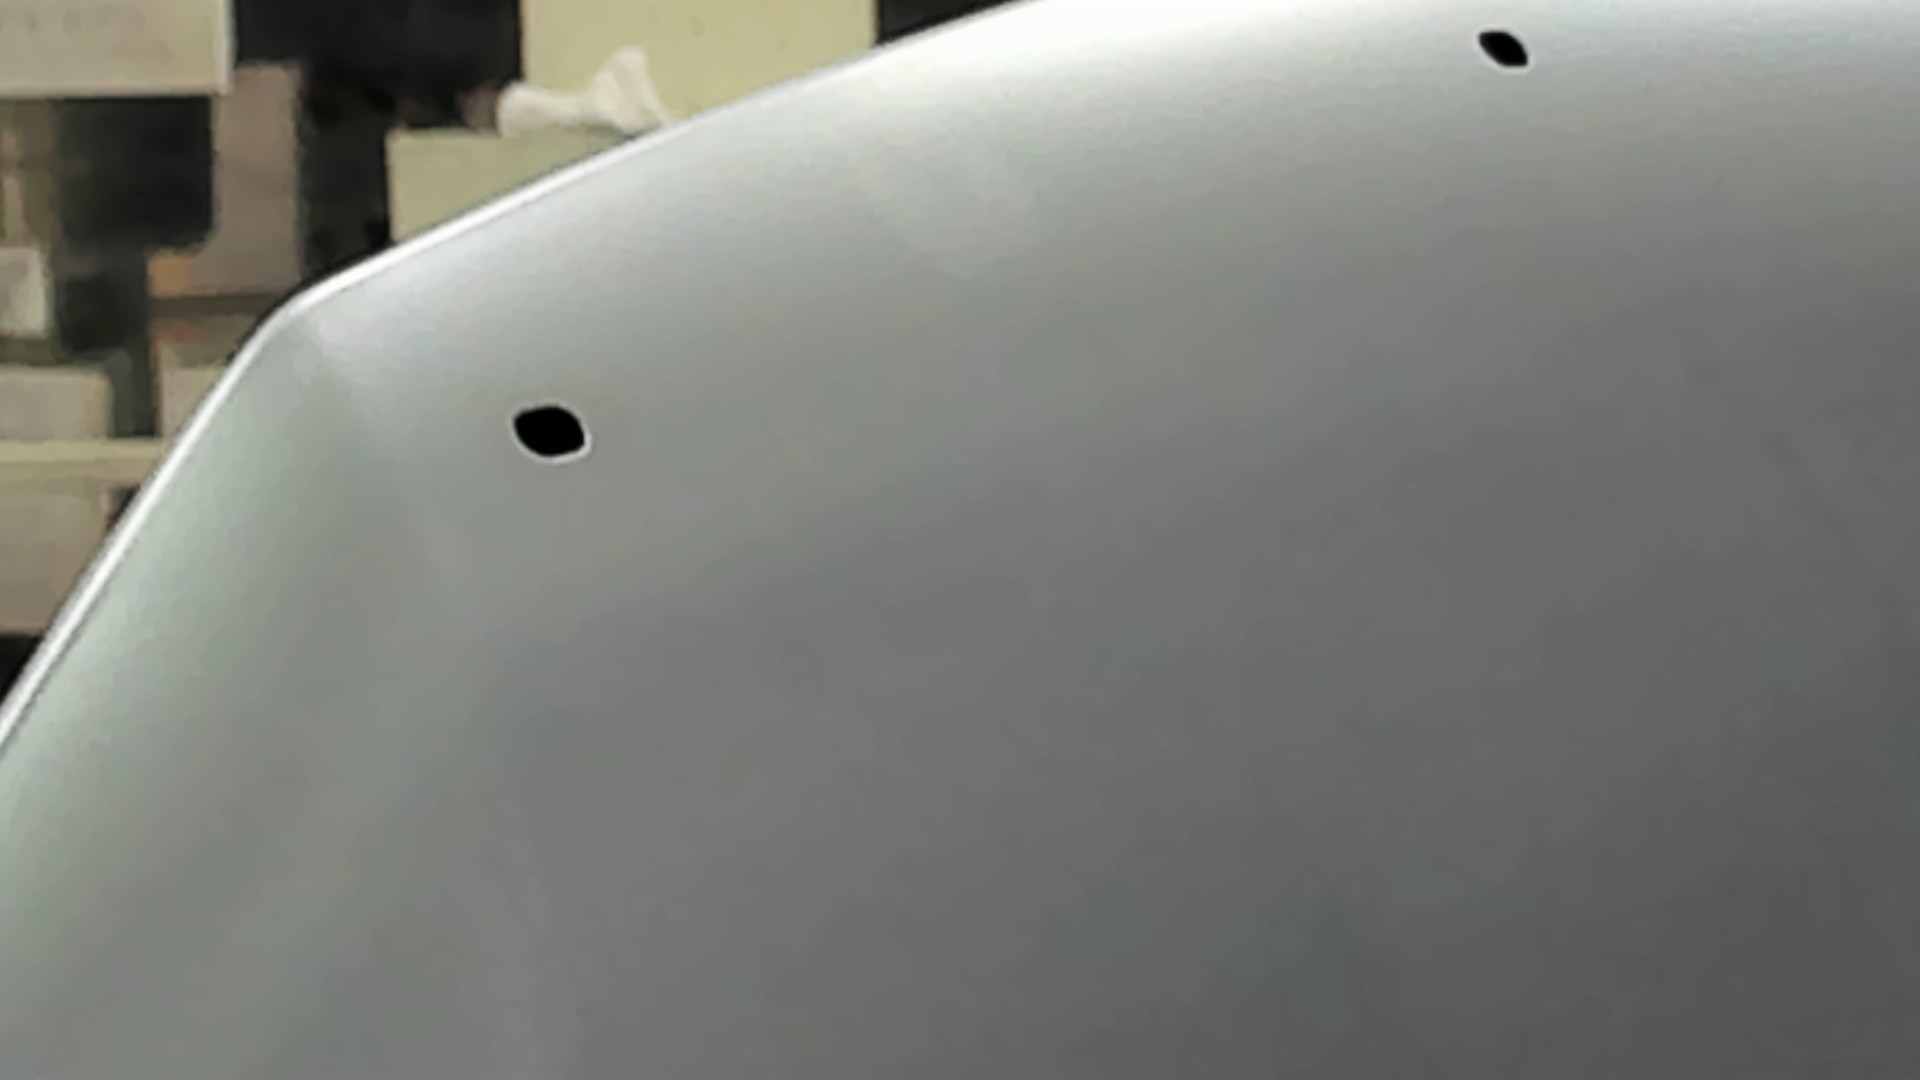amorfo: (504, 400, 596, 464), (1466, 22, 1542, 78)
